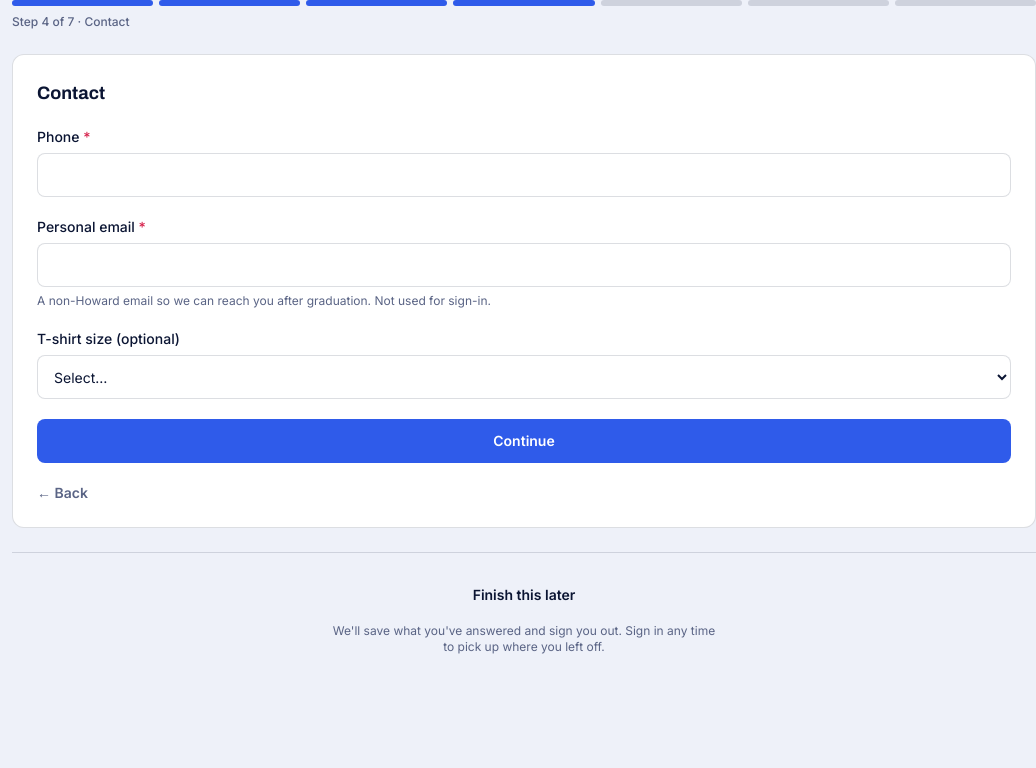
each step saves as it completes, then hands over to the next › Contact saves, then Membership is shown with its real number
The image size is (1036, 768).
Type "202-555-0100" into the field labelled "Phone *" at (524, 175), box [37,153,1011,197]
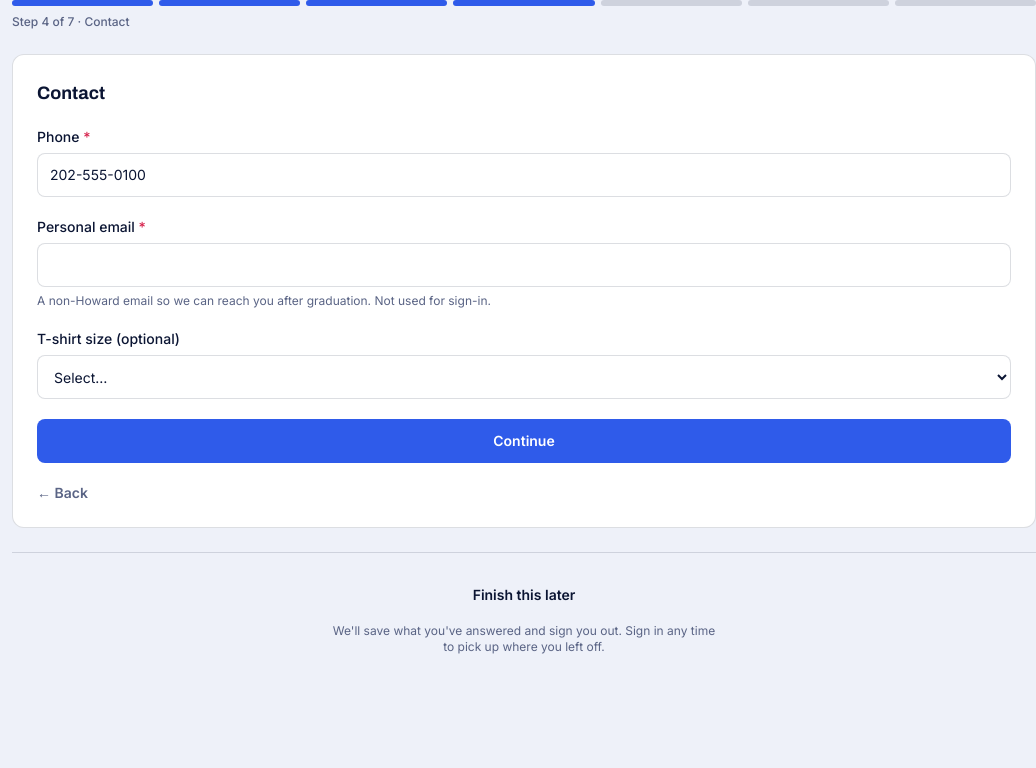
Type "ada@example.com" into the field labelled "Personal email *" at (524, 265), box [37,243,1011,287]
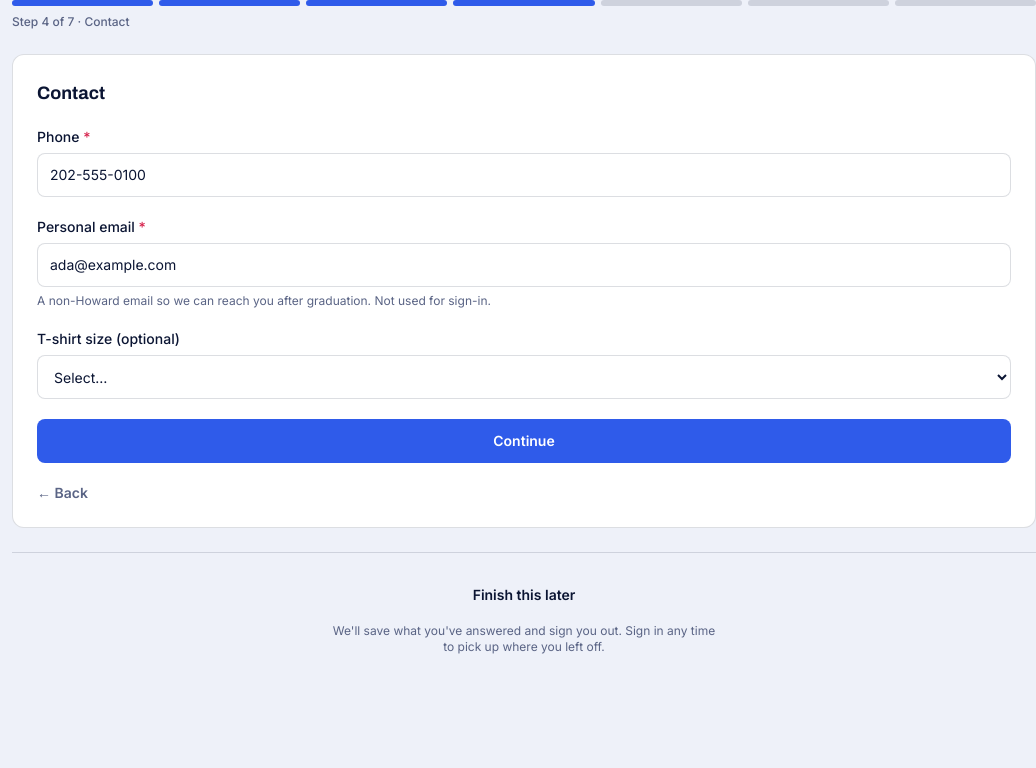
Click the button "Continue" at (524, 441), box [37,419,1011,463]
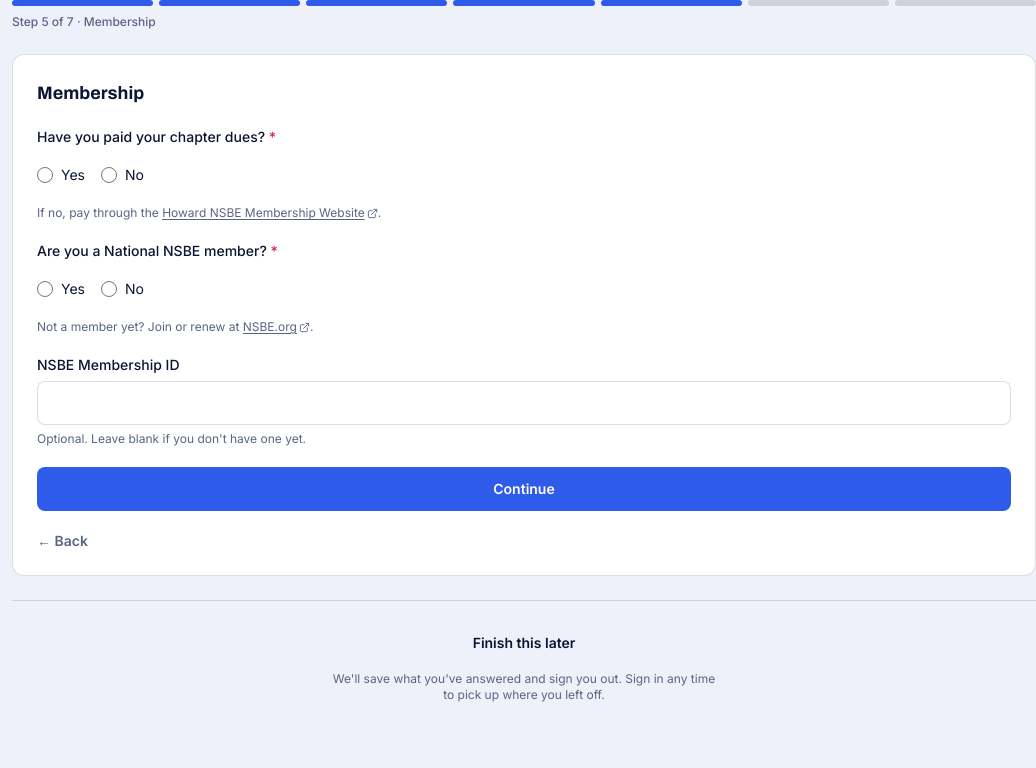
Result: the heading "Membership" is shown at [37,83,144,103]
Result: the text "Step 5 of 7 · Membership" is shown at [12,14,156,29]
